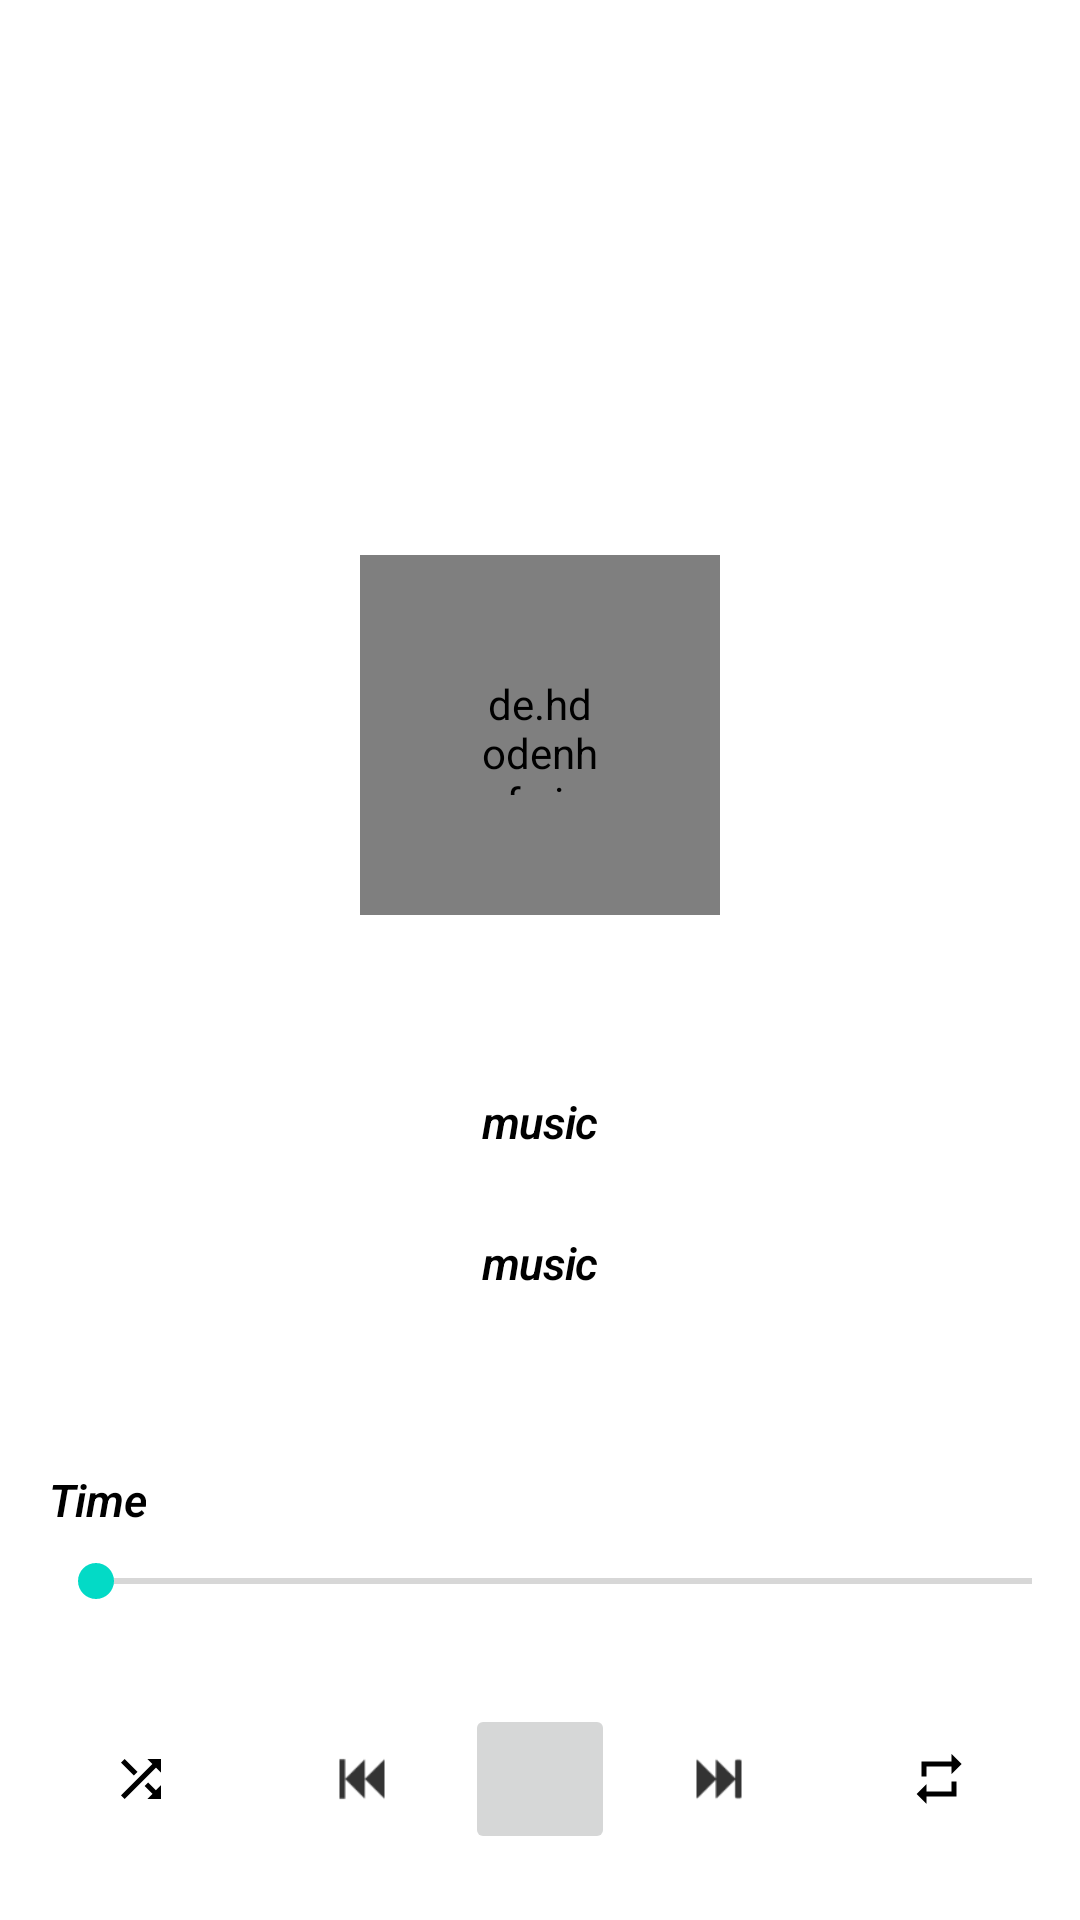

Icons on this 1080px x 1920px Android screen, each with the point to tap as (x=x, y=y):
next arrow: (x=719, y=1779)
previous arrow: (x=362, y=1779)
repeat: (x=939, y=1779)
shuffle: (x=141, y=1779)
